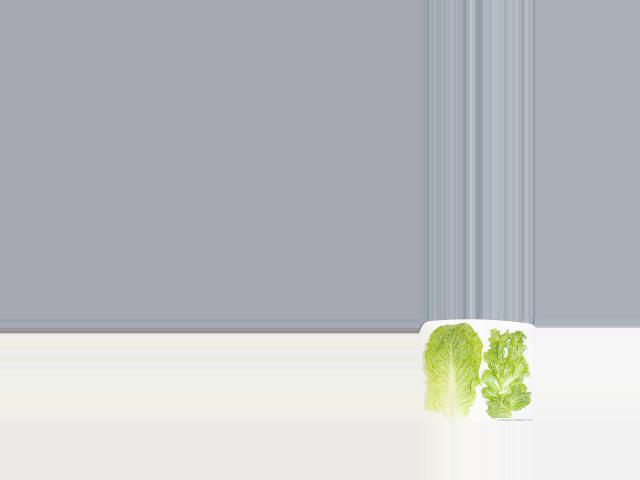lettuce: (483, 328, 536, 415)
